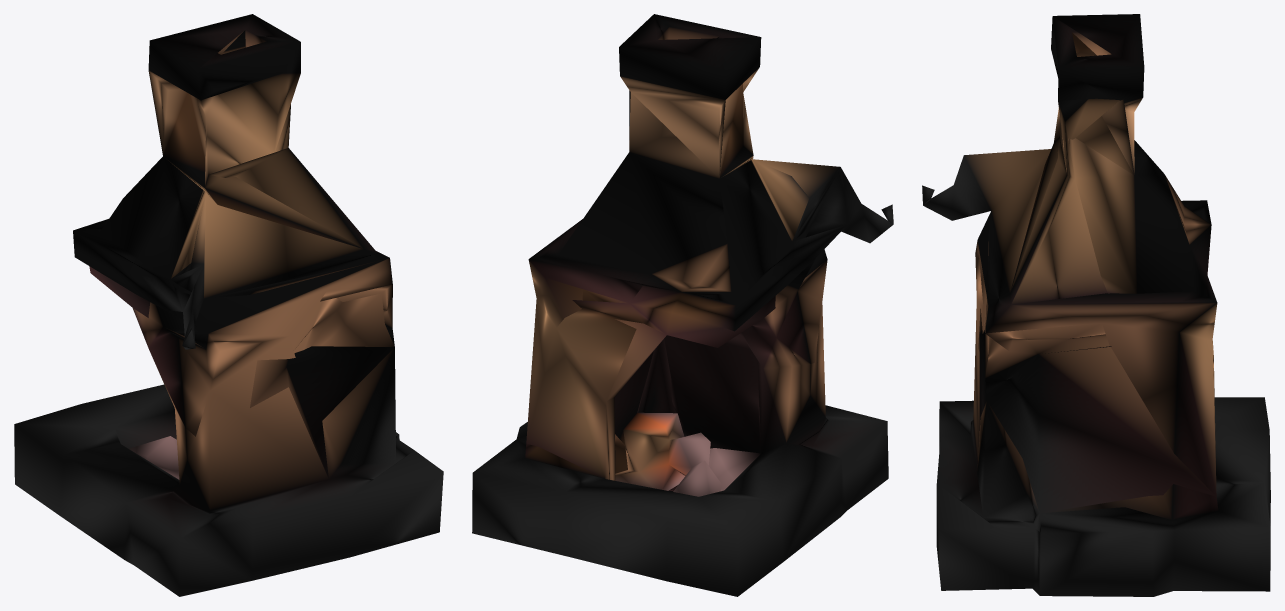
File: gen3d-forge-furnace-lod1.glb
The picture shows the model from 3 angles, left to right: view 1: azimuth 30°, elevation 25°; view 2: azimuth 150°, elevation 25°; view 3: azimuth 270°, elevation 25°; orthographic projection. The views are drawn at different scales.
Visible parts, largest first — view 1: part_0; view 2: part_0; view 3: part_0.
Part boxes in pixels (x1=…): part_0: x1=14, y1=14, x2=443, y2=596; part_0: x1=472, y1=14, x2=893, y2=596; part_0: x1=922, y1=14, x2=1270, y2=596.
Size of the model in its own units: 0.6119 by 0.9899 by 0.647.
